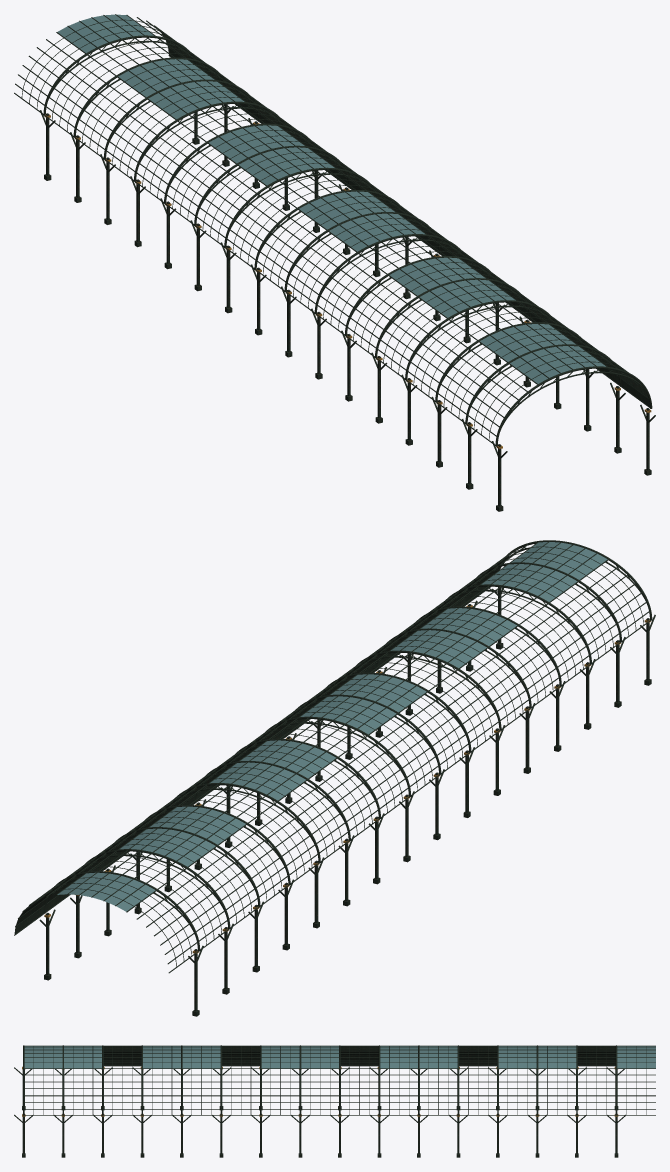
File: Roof.fbx
3 views of the same model, one above another, from view 1: azimuth 30°, elevation 25°; view 2: azimuth 150°, elevation 25°; view 3: azimuth 270°, elevation 25° (orthographic). The views are drawn at different scales.
Parts seen in each view (by area): view 1: Roof_Iron, Roof_Glass, Roof_RoofPanel; view 2: Roof_Iron, Roof_Glass, Roof_RoofPanel; view 3: Roof_Iron, Roof_Glass, Roof_RoofPanel, Roof_Brass.
Boxes of the visible parts, left/top/right/bottom form: Roof_Iron: left=14, top=14, right=655, bottom=511; Roof_Glass: left=57, top=14, right=605, bottom=383; Roof_RoofPanel: left=161, top=33, right=649, bottom=406; Roof_Iron: left=14, top=540, right=655, bottom=1016; Roof_Glass: left=57, top=542, right=607, bottom=911; Roof_RoofPanel: left=14, top=560, right=503, bottom=934; Roof_Iron: left=14, top=1045, right=655, bottom=1157; Roof_Glass: left=24, top=1046, right=655, bottom=1068; Roof_RoofPanel: left=103, top=1046, right=615, bottom=1065; Roof_Brass: left=22, top=1067, right=618, bottom=1116.
Bounding box in the file's own units: 15 × 81.25 × 11.25.
Materials: 4 (3 with a texture image).
